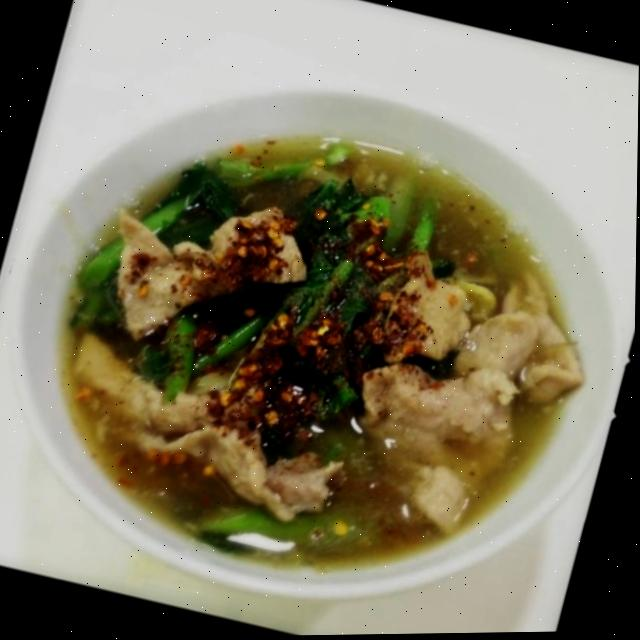面条主食: (0, 35, 640, 640)
